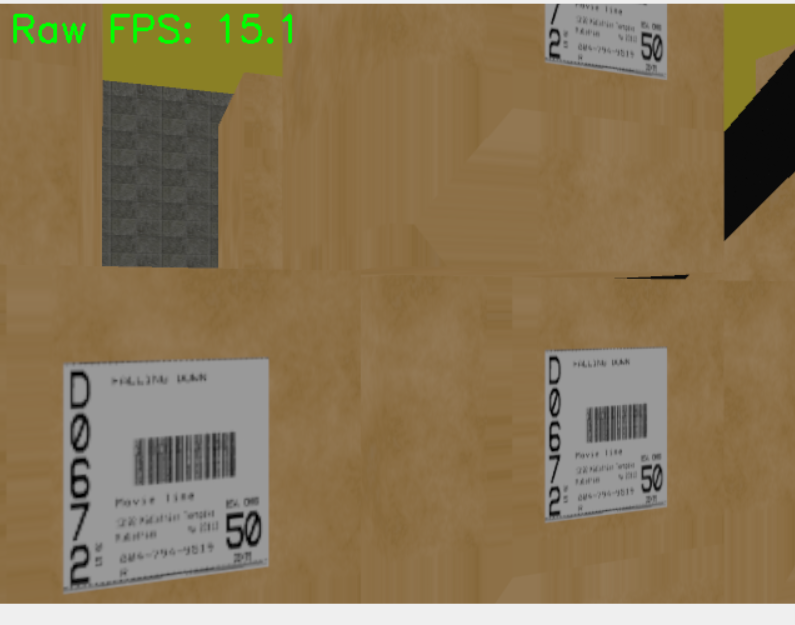barcode: (60, 358, 271, 593), (545, 349, 670, 523)
